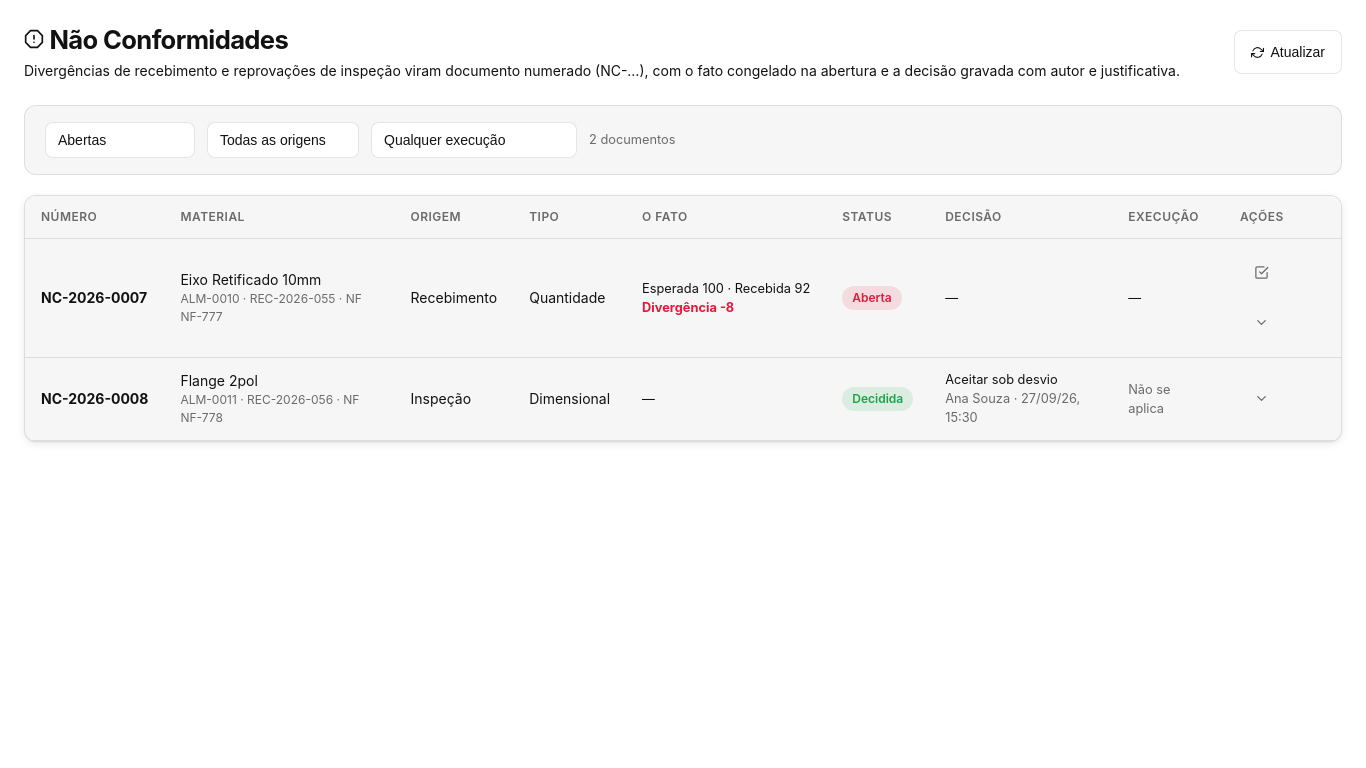
NaoConformidadesAlmoxarifado — modal de decisão › (10) o select oferece os SEIS valores do enum, com os rótulos em português
Click the 1st button with class "almox-btn-icon".
click(1262, 273)  # box x1=1240 y1=251 x2=1284 y2=295
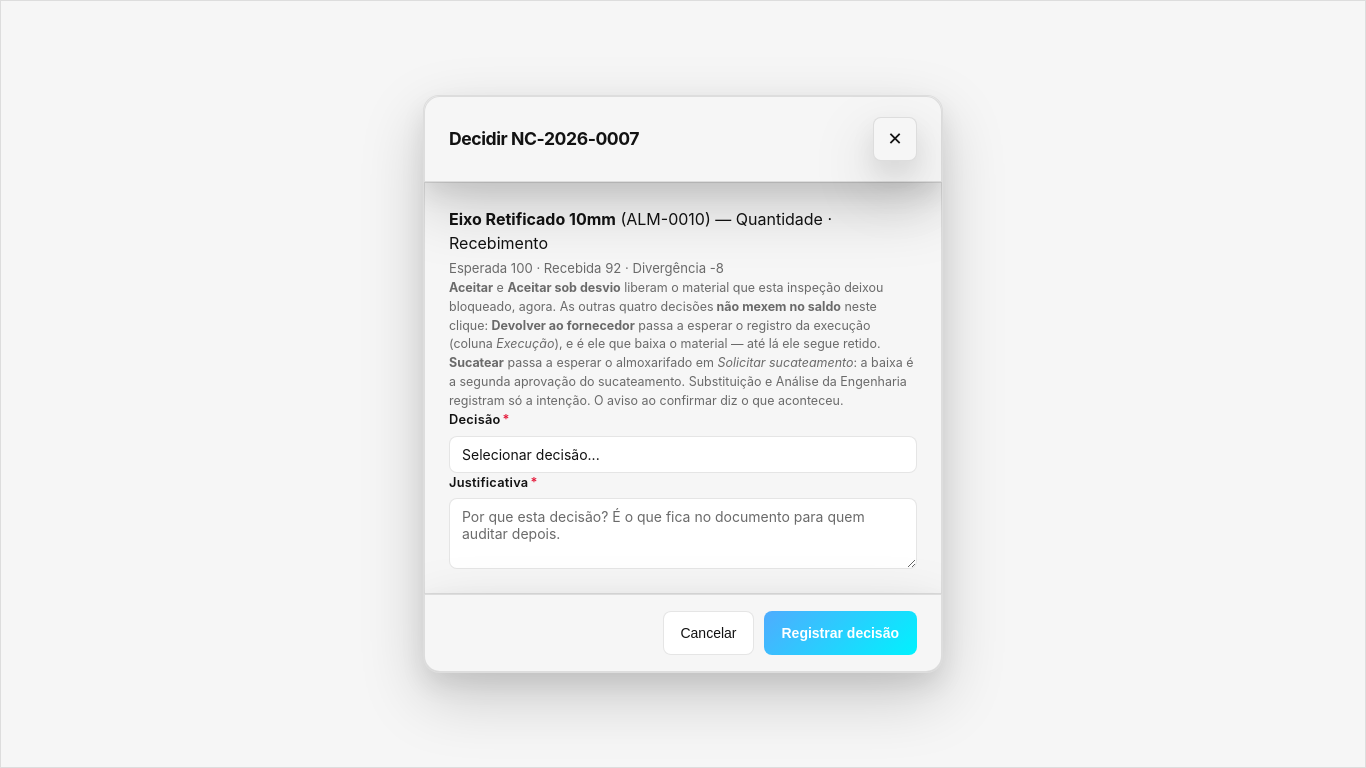
Now the element with class "almox-modal" shows "Análise da Engenharia", box x1=449 y1=355 x2=914 y2=408
